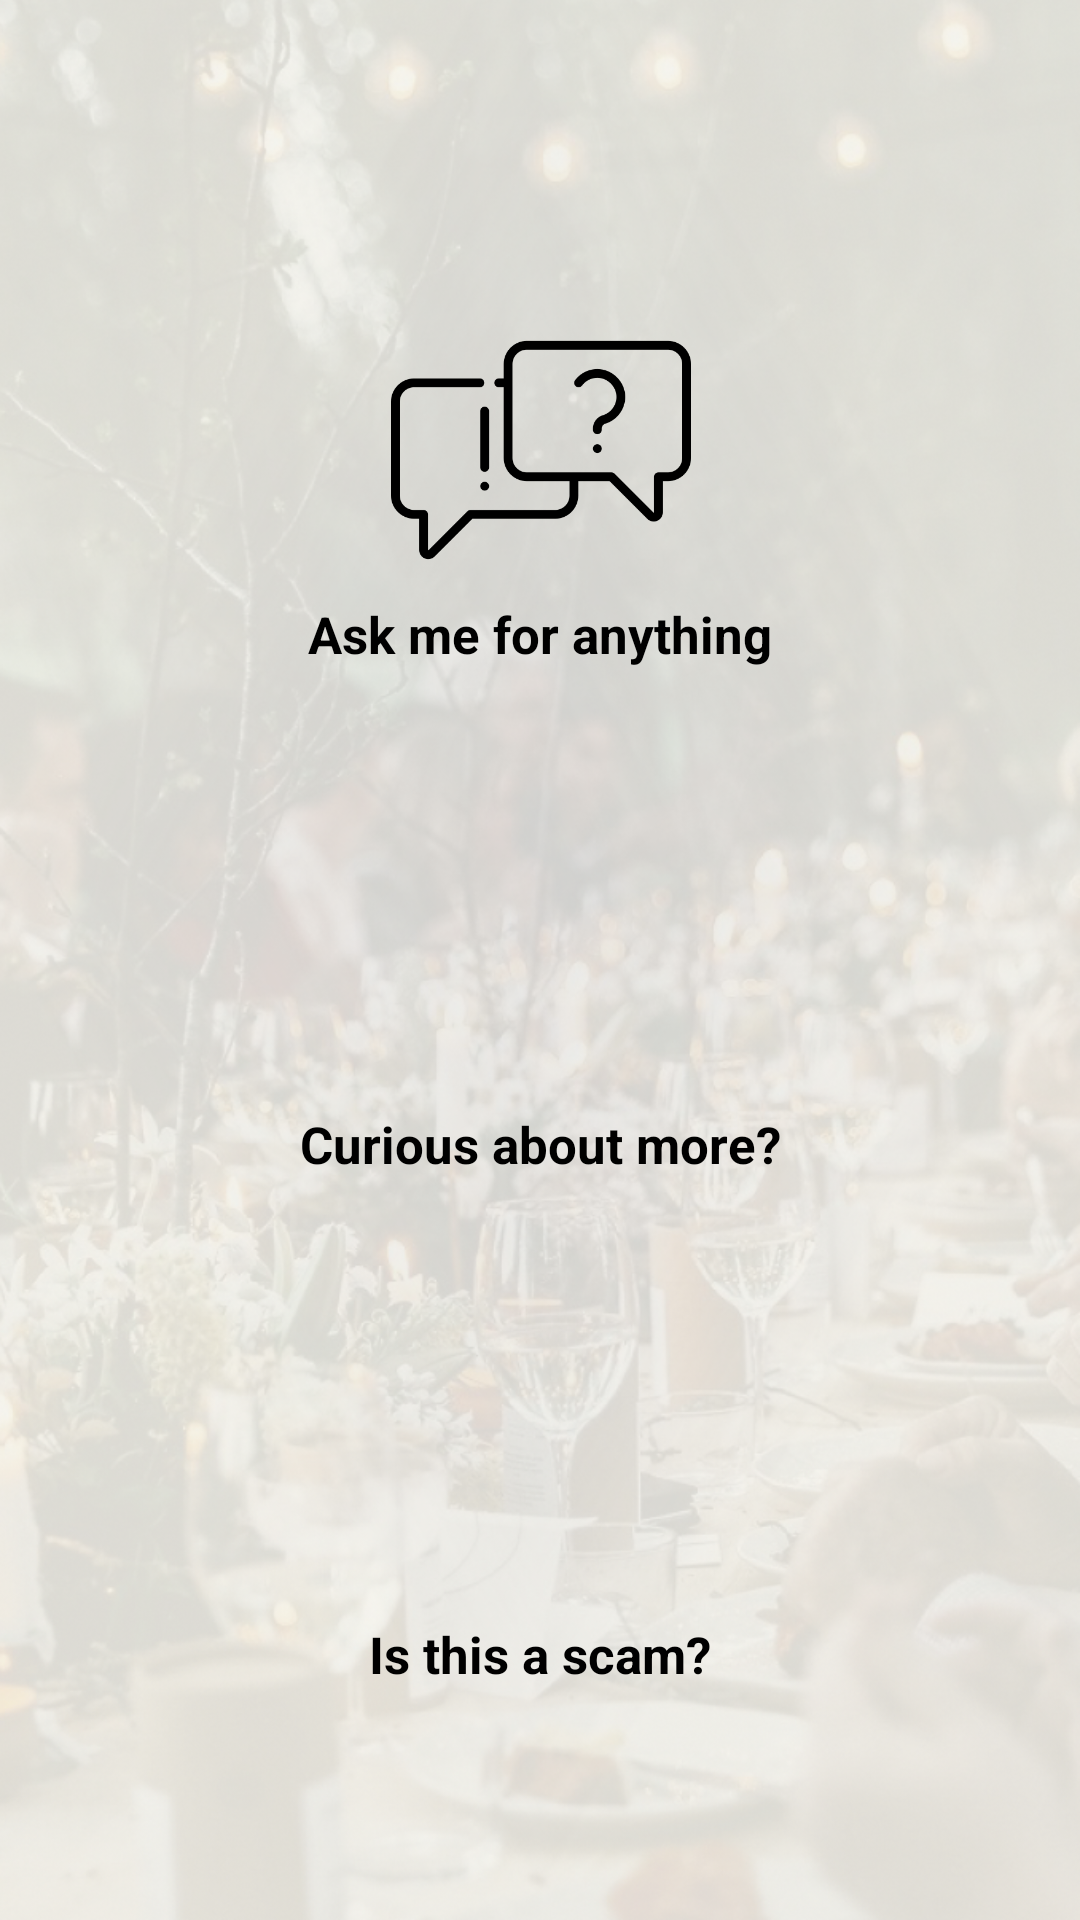

Screen size 1080x1920. Icon name, then its center in pixels as (x=x, y=y):
home chatbot: (x=541, y=450)
